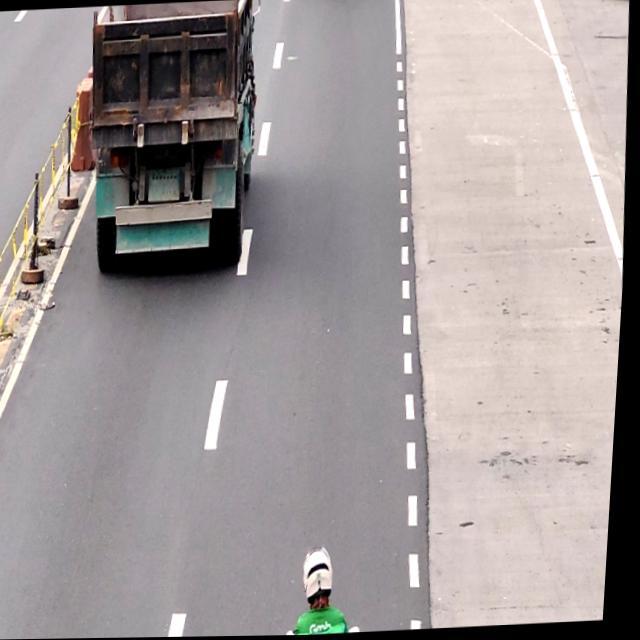Truck: (87, 0, 268, 279)
